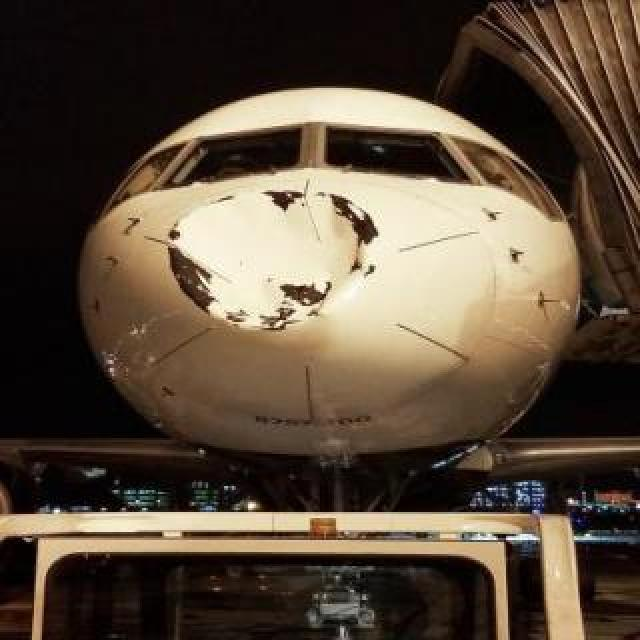dent: (167, 191, 383, 329)
